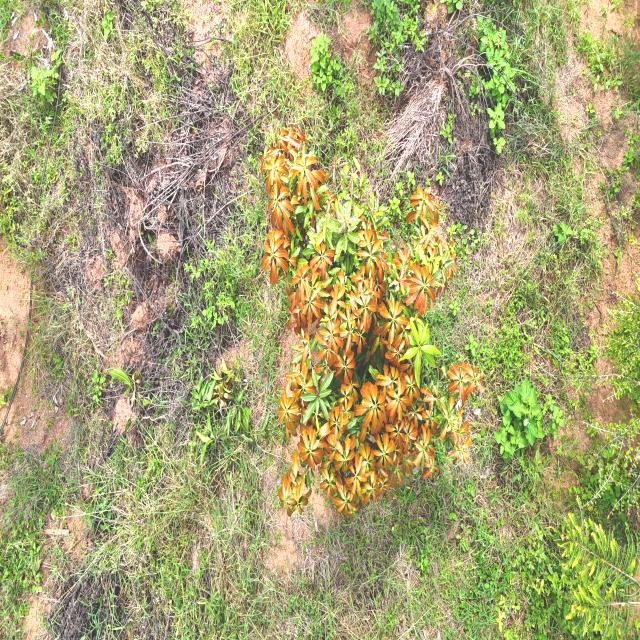mangoTree: (260, 125, 488, 522)
notMangoTree: (558, 293, 640, 640)
